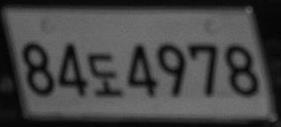4: (127, 42, 158, 97), (57, 42, 88, 96)
7: (188, 44, 218, 95)
8: (21, 41, 56, 97), (224, 43, 259, 97)
9: (158, 43, 186, 95)
도: (89, 52, 123, 97)
